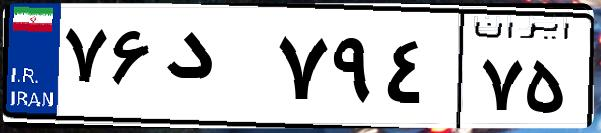4: (385, 28, 445, 110)
5: (525, 38, 570, 115)
6: (110, 28, 158, 98)
7: (270, 28, 330, 110), (57, 26, 110, 100), (475, 38, 525, 113)
9: (330, 28, 385, 110)
د: (158, 20, 270, 120)
